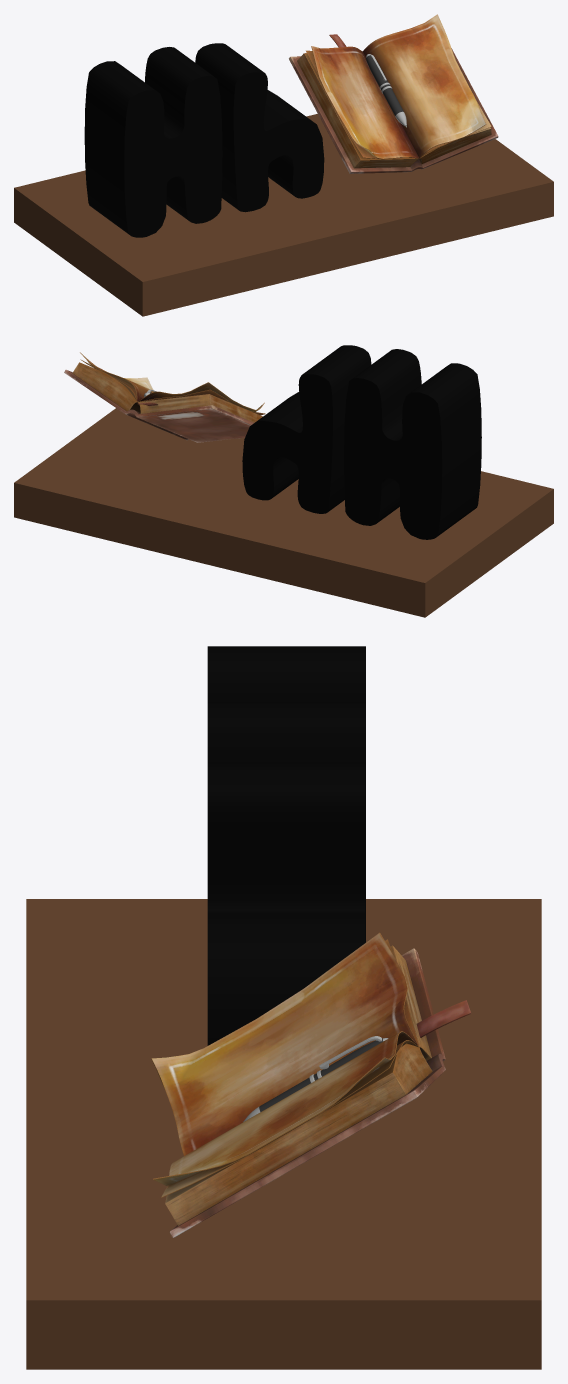
Rendered from Hh_historia_anim.fbx.
3 renders of one model, top to bottom at view 1: azimuth 30°, elevation 25°; view 2: azimuth 150°, elevation 25°; view 3: azimuth 270°, elevation 25°, orthographic. The views are drawn at different scales.
Visible parts, largest first — view 1: root.001, node_id39, node_id54, node_id46, node_id66; view 2: root.001, node_id39, node_id46, node_id54; view 3: root.001, node_id54, node_id46, node_id39, node_id66.
Part boxes in pixels (x1,y1,x2,y2): root.001: (14, 113, 553, 316); node_id39: (84, 47, 222, 237); node_id54: (289, 14, 498, 173); node_id46: (195, 43, 324, 212); node_id66: (366, 54, 406, 127); root.001: (14, 408, 553, 617); node_id39: (344, 349, 481, 539); node_id46: (242, 345, 371, 513); node_id54: (64, 352, 265, 442); root.001: (26, 899, 541, 1369); node_id54: (151, 932, 471, 1237); node_id46: (207, 764, 365, 1045); node_id39: (207, 646, 365, 942); node_id66: (243, 1036, 388, 1121).
Bounding box in the file's own units: 709 × 298 × 384.
